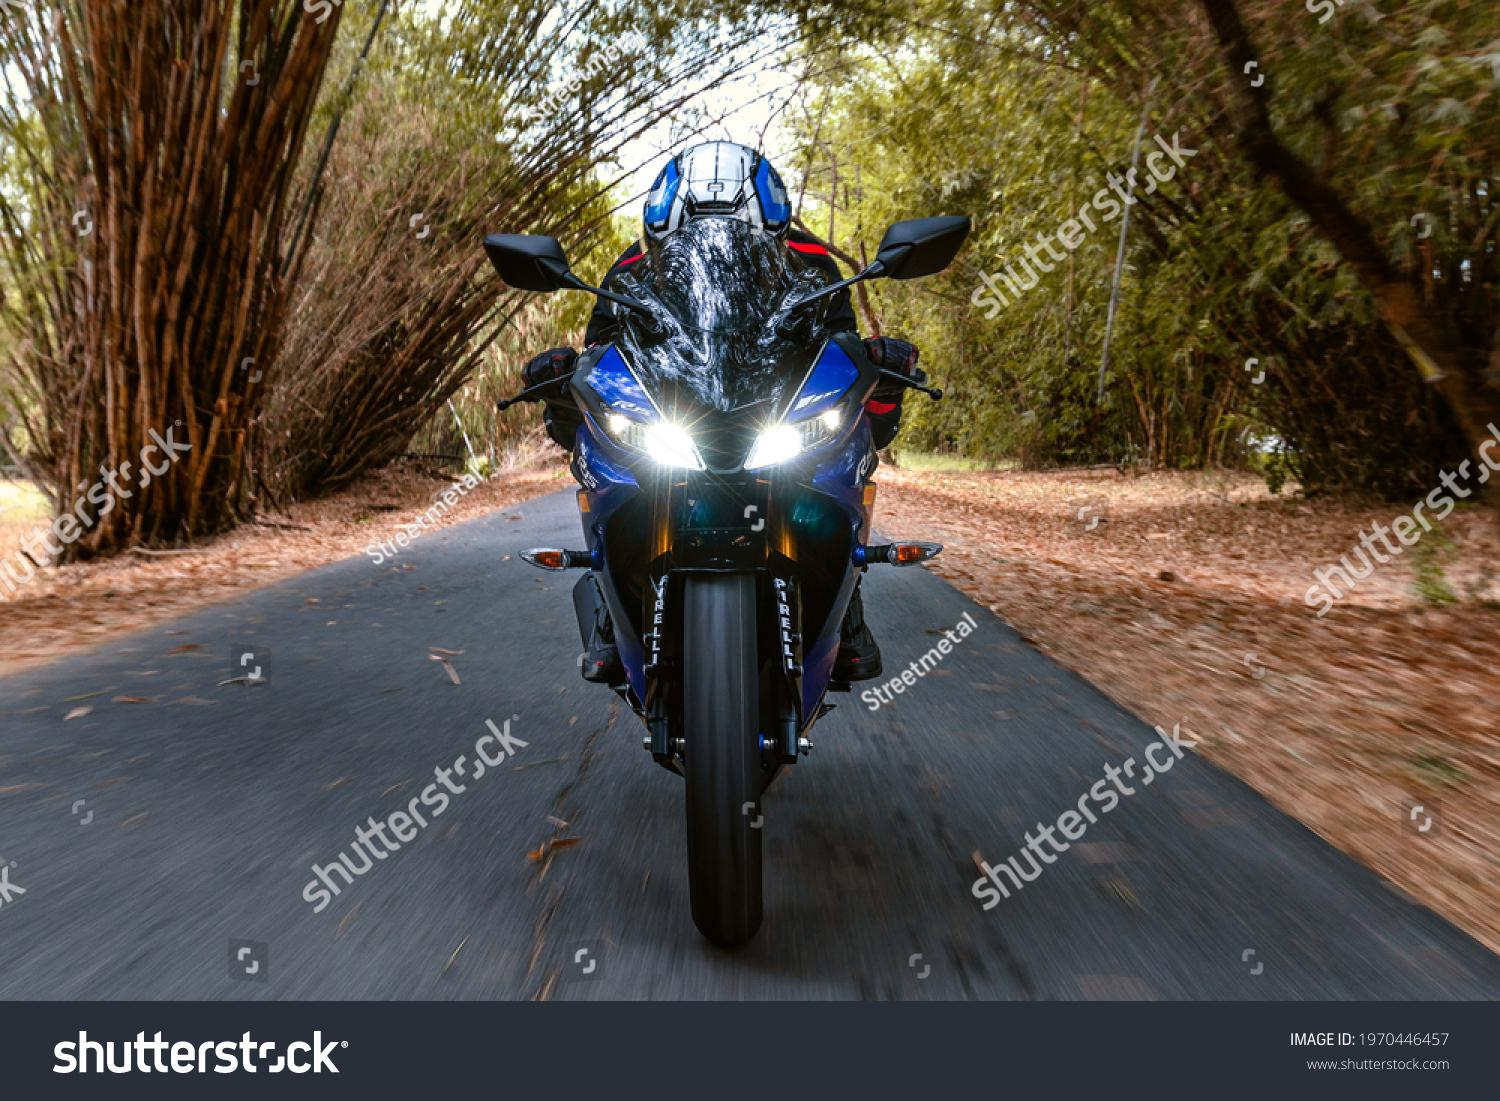motorcycle: (476, 108, 995, 971)
